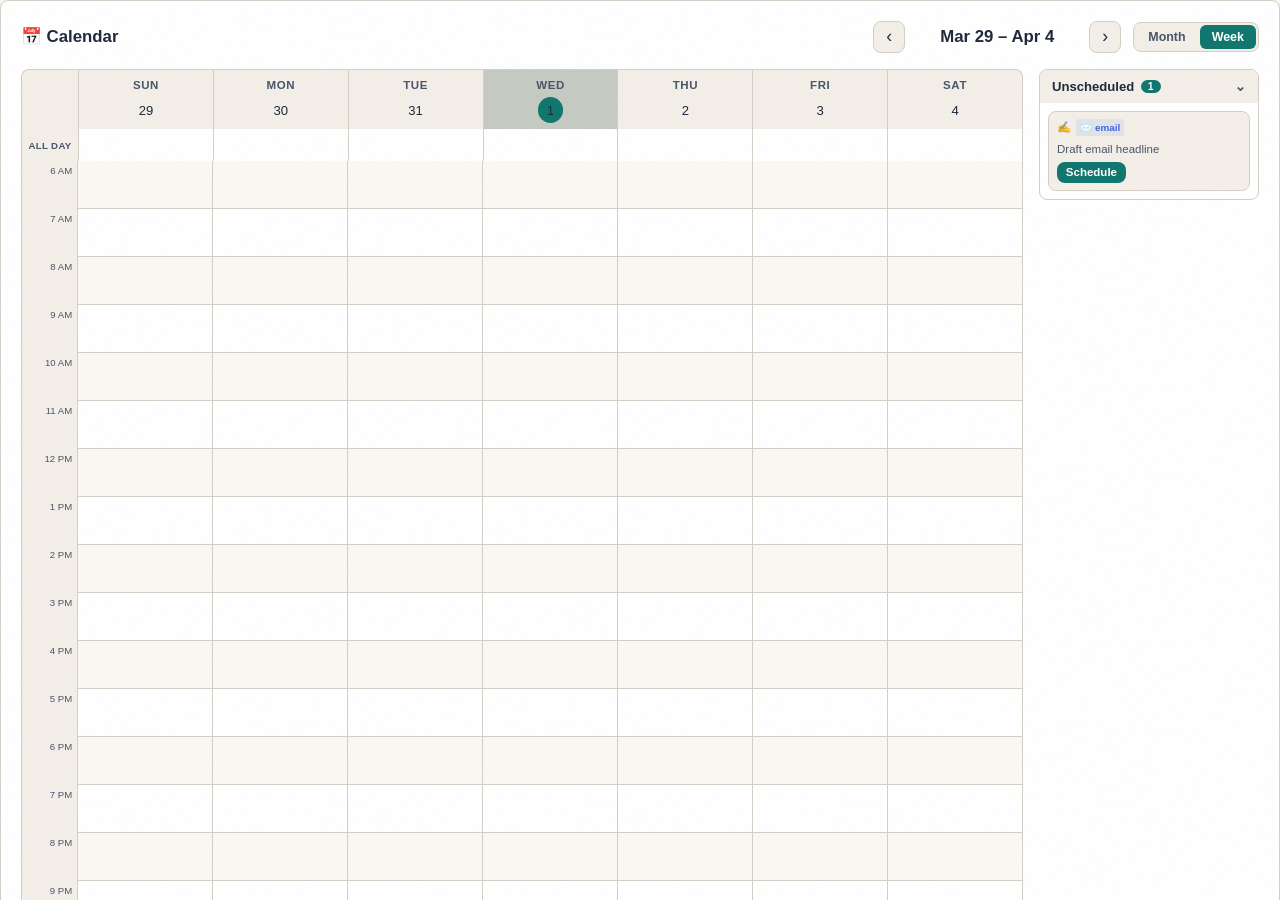
Test: CalendarView – unscheduled sidebar › collapses sidebar when header is clicked
This screenshot has width=1280, height=900.
Expected: the text "Draft email headline" is shown, [1057,143,1159,155]
// Click header to collapse
Click the button "Unscheduled 1 ⌄": (1149, 86) [1040,70,1258,103]
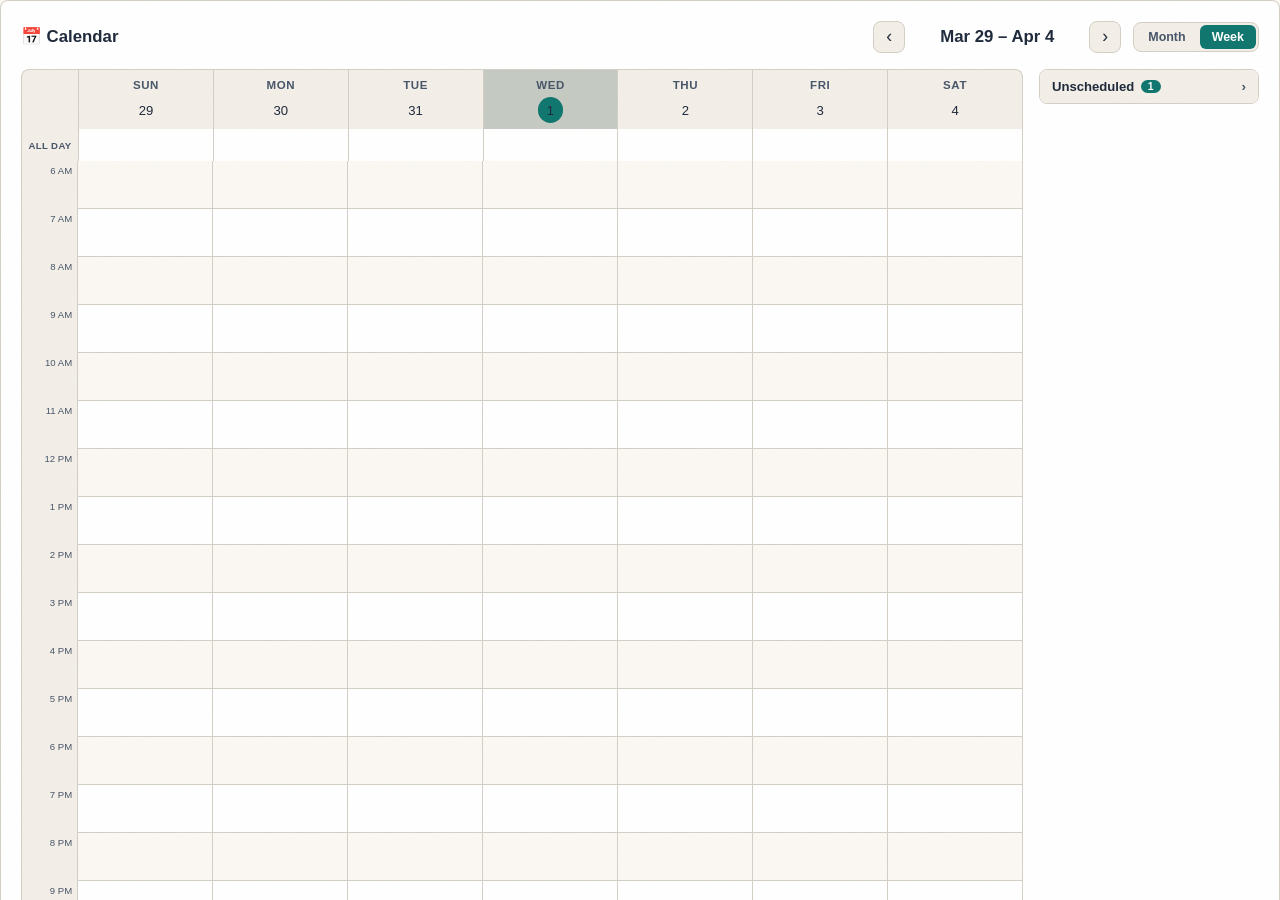
Now the text "Draft email headline" is gone
